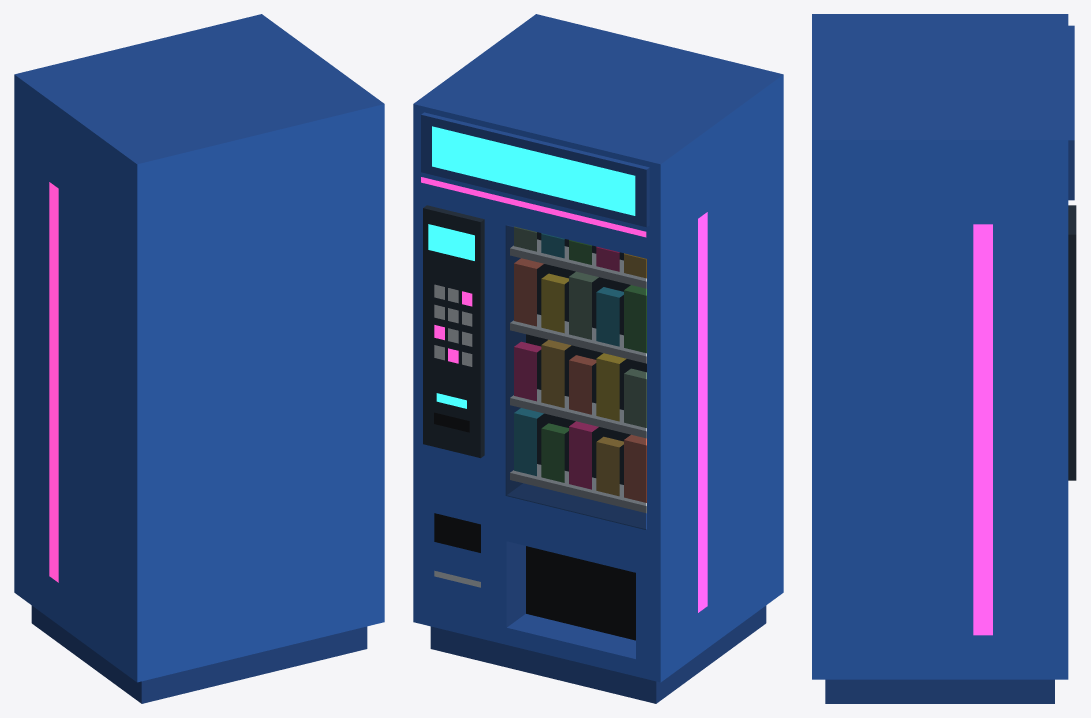
Rendered from vending_machine.glb.
The picture shows the model from 3 angles, left to right: view 1: azimuth 30°, elevation 25°; view 2: azimuth 150°, elevation 25°; view 3: azimuth 270°, elevation 25°; orthographic projection. The views are drawn at different scales.
Parts seen in each view (by area): view 1: Body; view 2: Body; view 3: Body.
Part boxes in pixels (x1,y1,x2,y2): Body: (14, 14, 384, 703); Body: (413, 14, 783, 703); Body: (812, 14, 1076, 703).
Bounding box in the file's own units: 0.908 × 1.9 × 0.8002.
